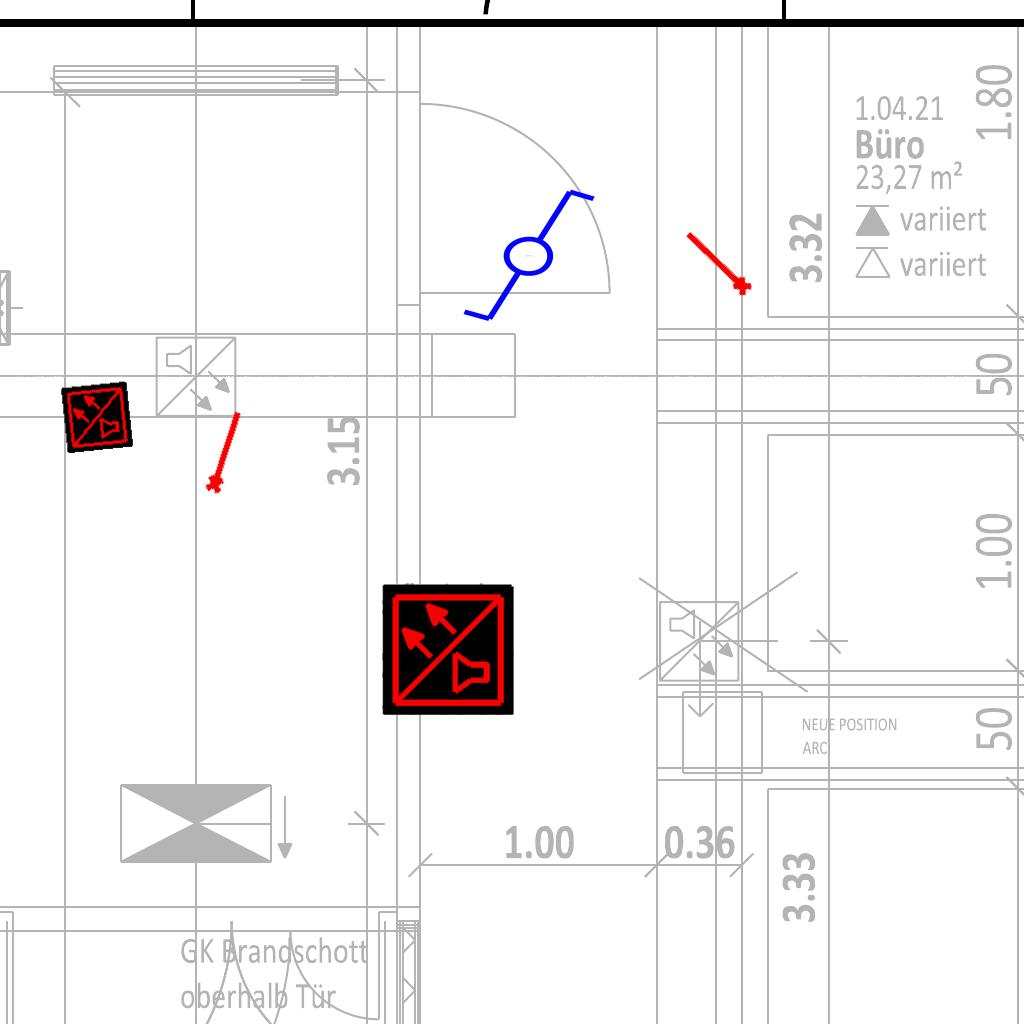ASR_Ansaugoeffnung: (677, 224, 757, 303), (199, 406, 249, 497)
OKW_Multisensormelder_(Kombination_optischer_Rauch-Kahlenmonoxid_Waerme-Melder): (382, 583, 514, 715), (60, 380, 134, 454)
Wechselschalter: (442, 182, 599, 326)
